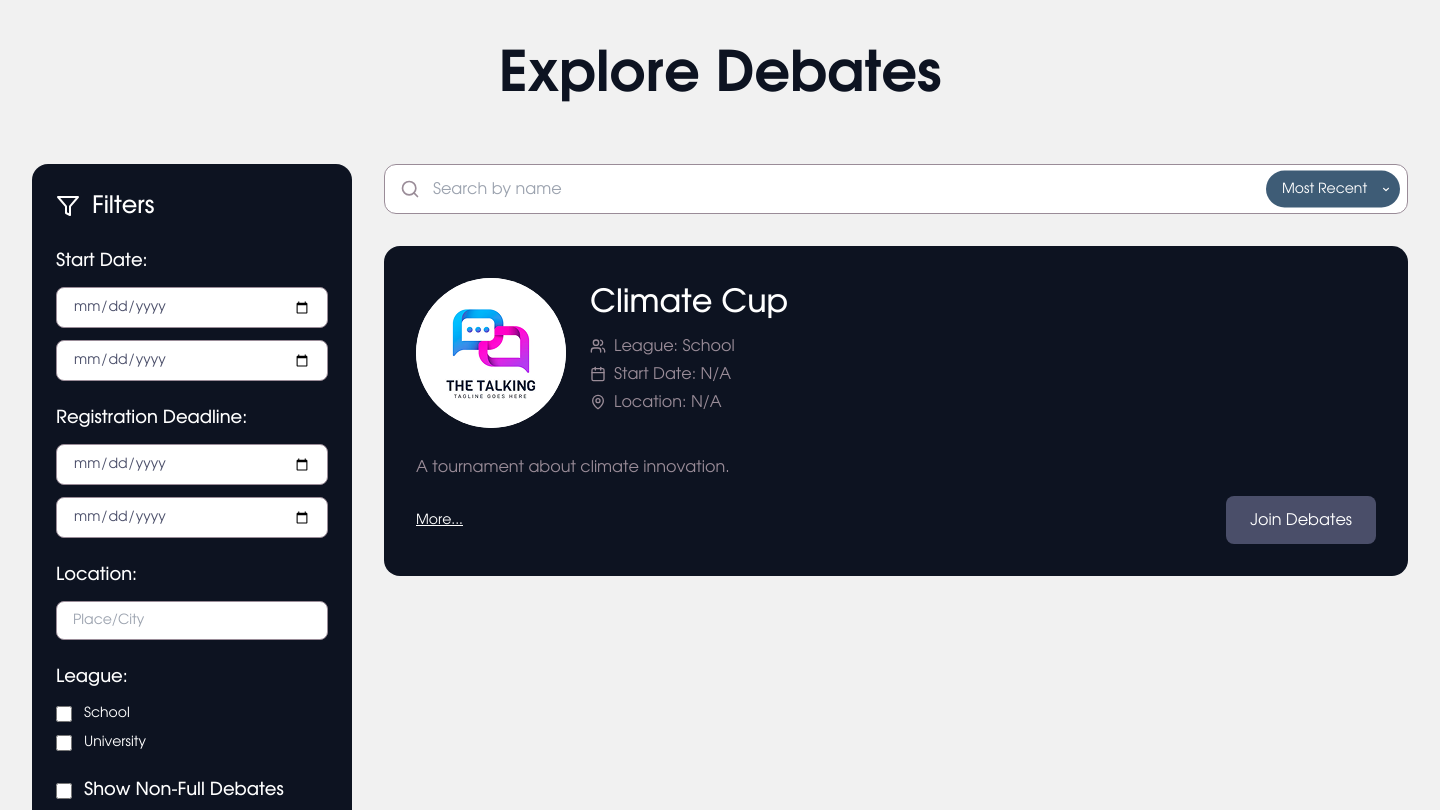
Test case: JoinDebatesPage team registration › shows the backend registration error and keeps the modal open
The width and height of the screenshot is (1440, 810).
Expected: the heading "Climate Cup" is shown, [590, 286, 788, 318]
Click the button "Join Debates" at (1301, 520), box [1226, 496, 1376, 544]
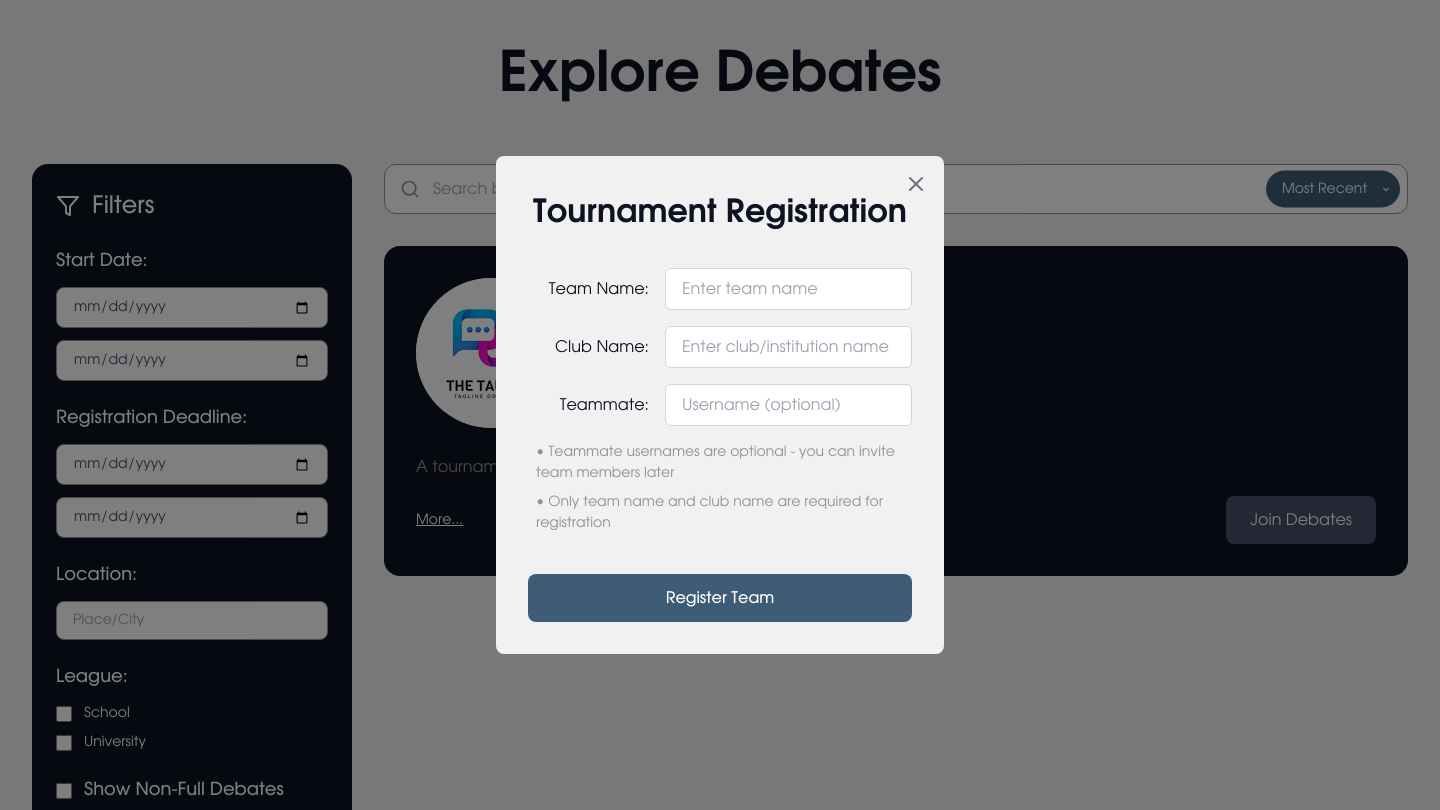
Now the heading "Tournament Registration" is shown, box [528, 188, 912, 236]
Type "kaprichoza" into the field with placeholder "Enter team name" at (788, 289), box [665, 268, 912, 310]
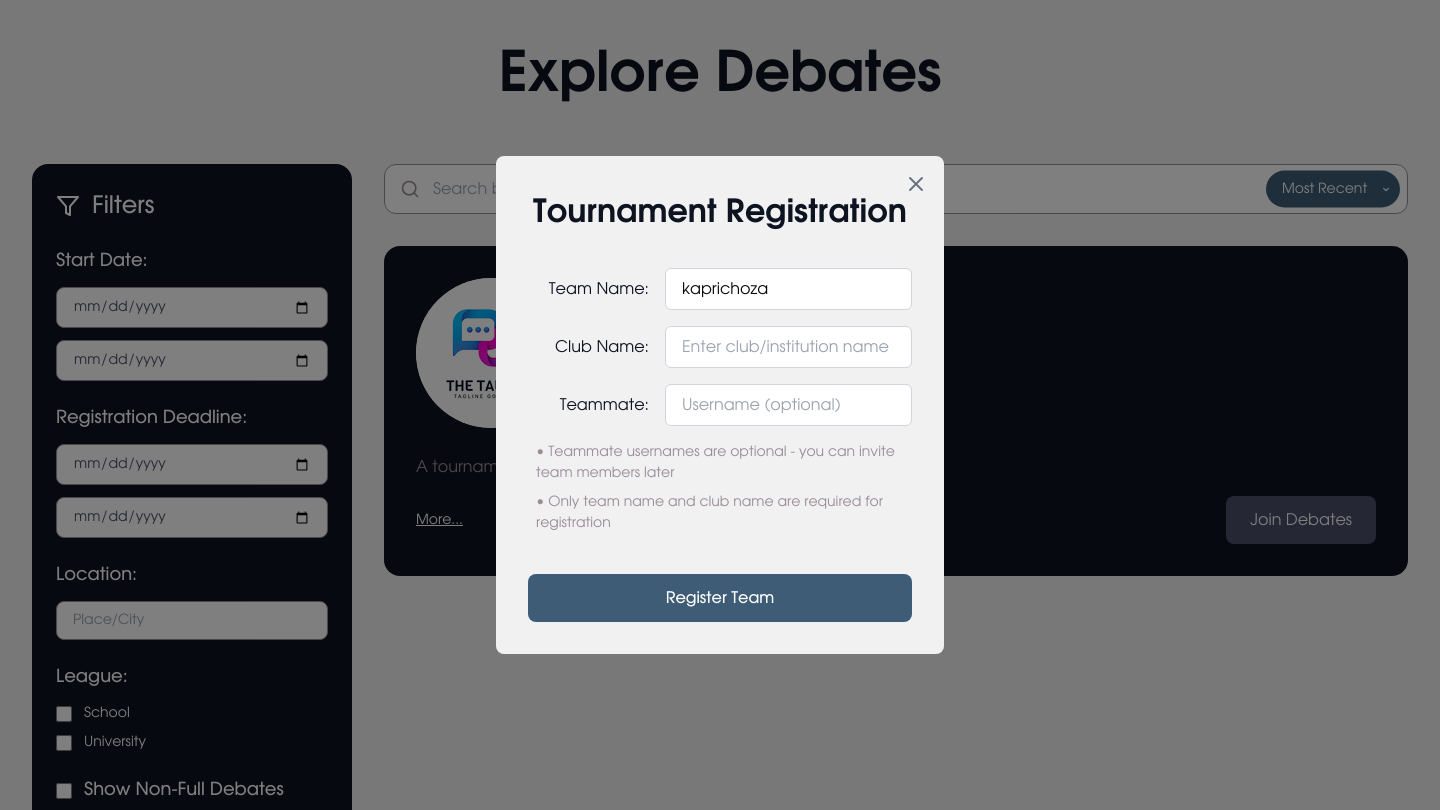
Type "KTL" into the field with placeholder "Enter club/institution name" at (788, 347), box [665, 326, 912, 368]
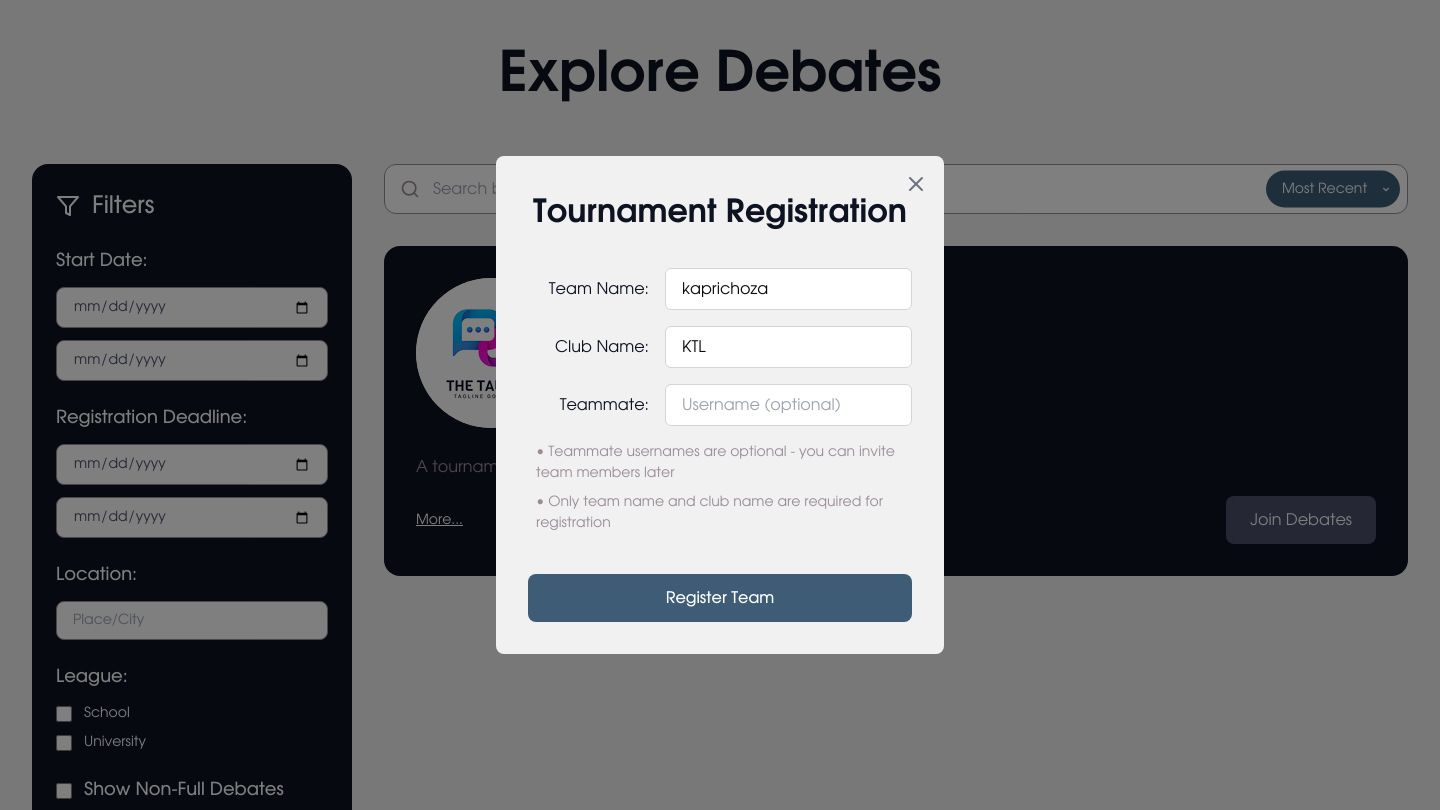
Type "Aisha" into the field with placeholder "Username (optional)" at (788, 405), box [665, 384, 912, 426]
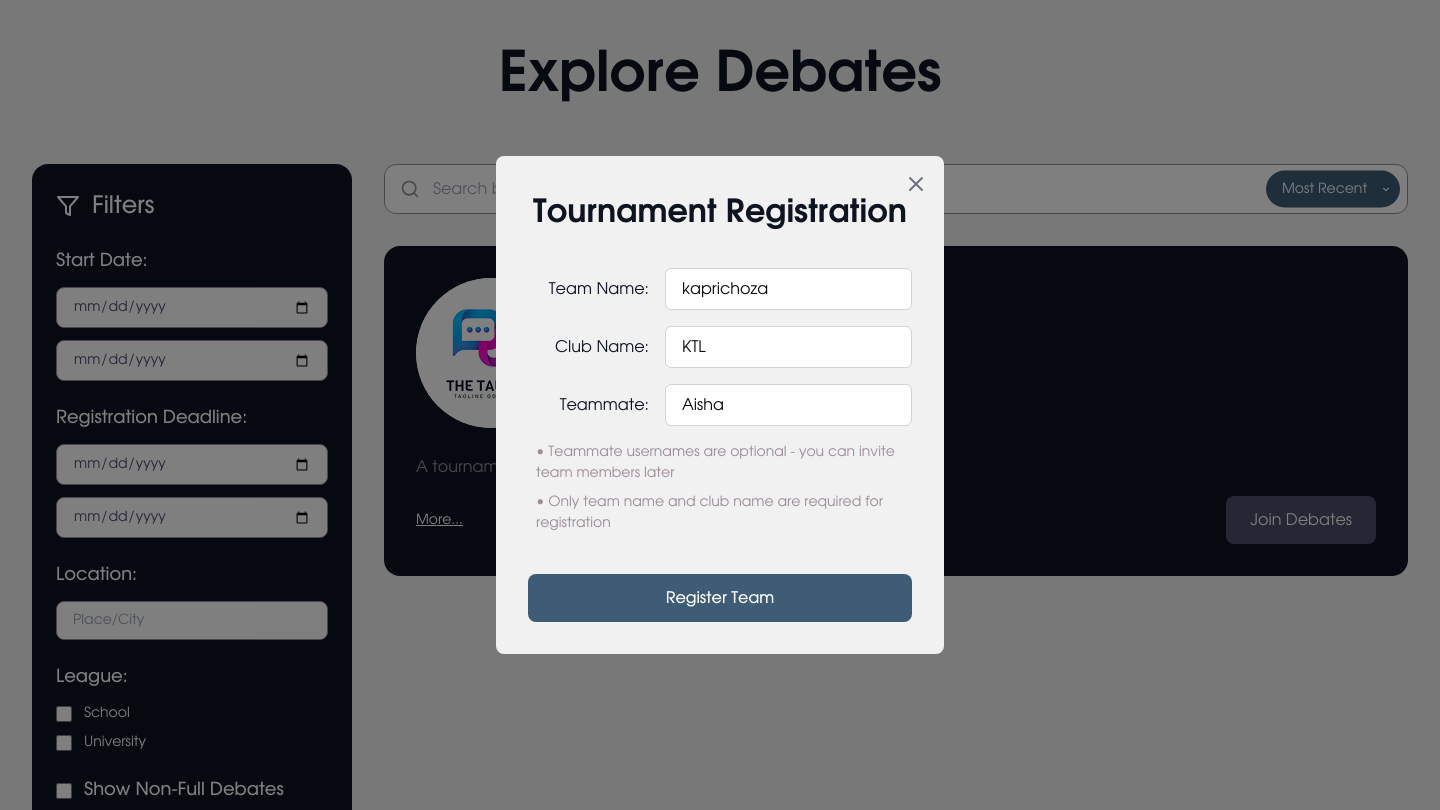
Click the button "Register Team" at (720, 598), box [528, 574, 912, 622]
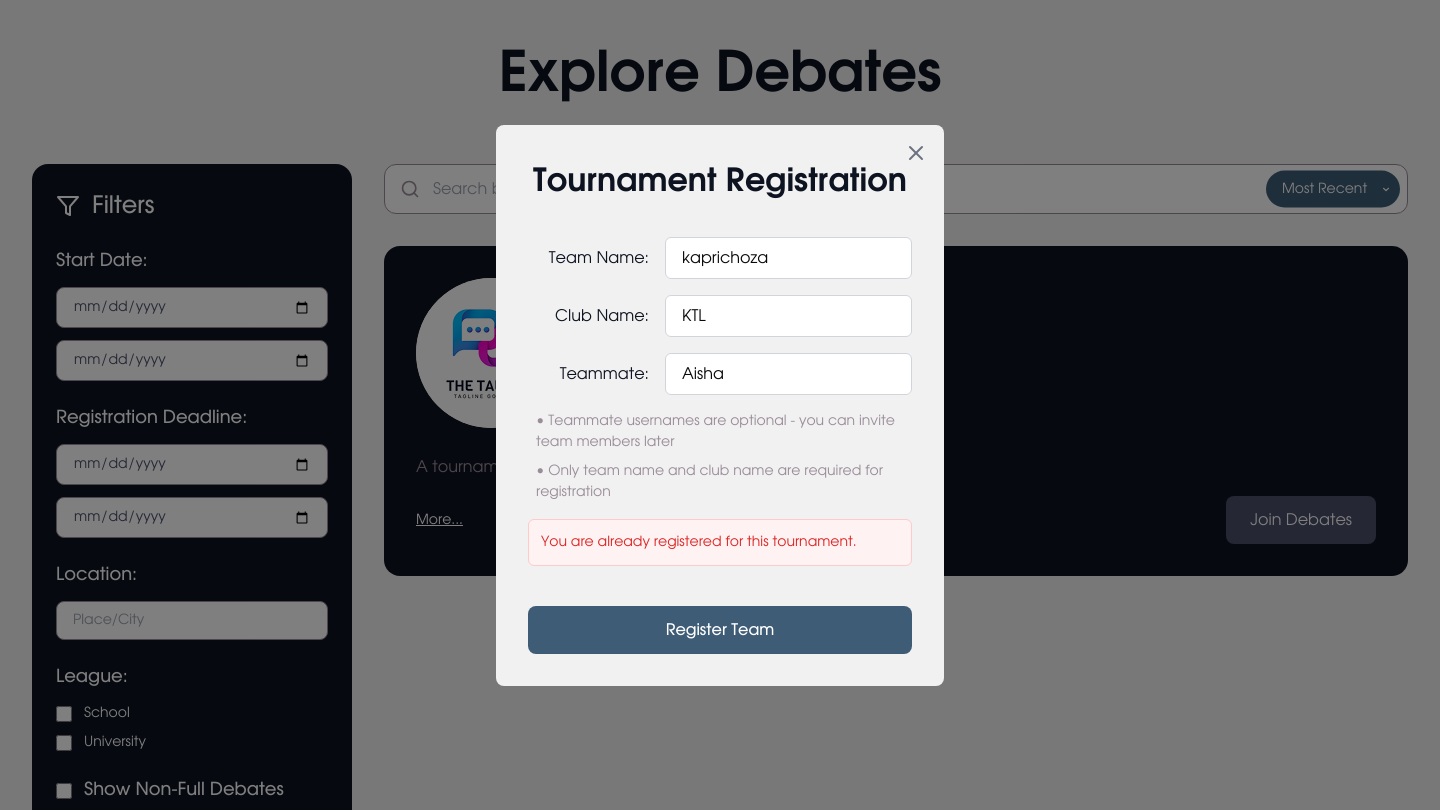
Now the heading "Tournament Registration" is shown, box [528, 156, 912, 204]
Now the text "You are already registered for this tournament." is shown, box [541, 532, 899, 552]
